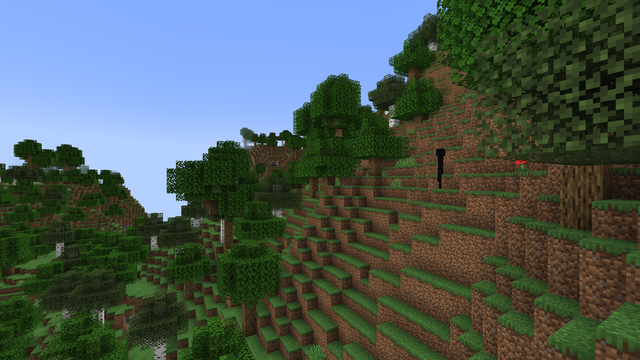endermens: (434, 147, 447, 188)
